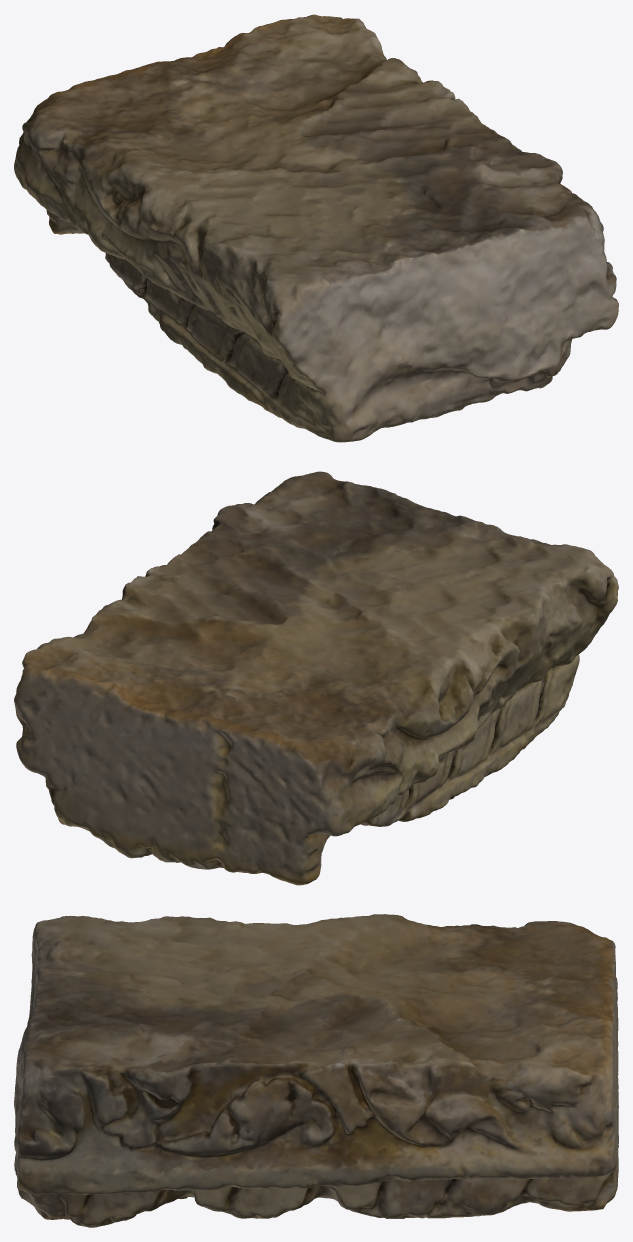
The model's file is Pilastre_QuadricEdgeDecimationX1+preserve.obj.
3 views of the same model, one above another, from view 1: azimuth 30°, elevation 25°; view 2: azimuth 150°, elevation 25°; view 3: azimuth 270°, elevation 25° (orthographic). The views are drawn at different scales.
Size of the model in its own units: 7.26 by 3.73 by 10.38.
